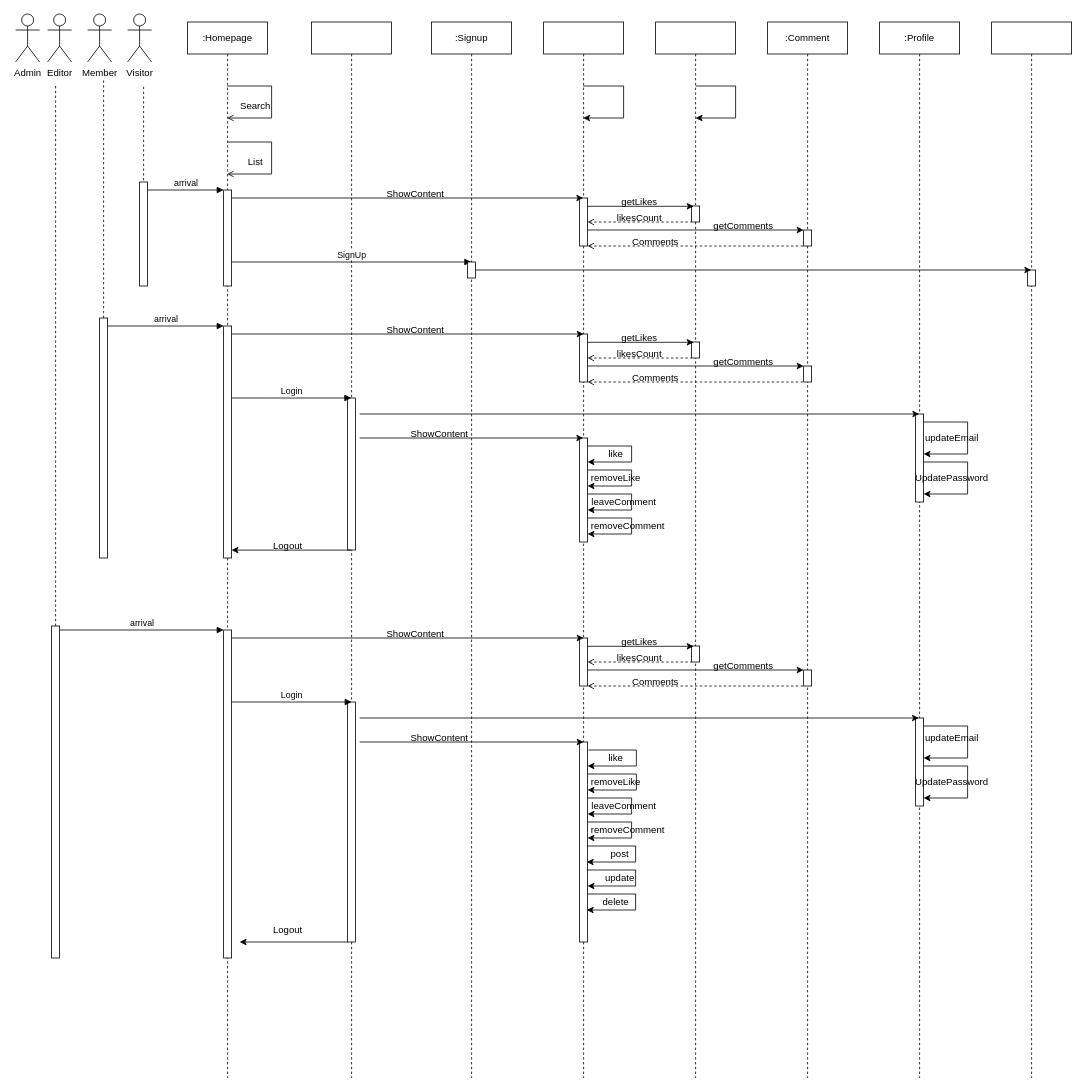
The diagram is 1086 pixels wide and 1092 high, and some of its shapes have lost their labels. The shapes that lost their labels are listed below. From the top down, each one's box as (x1, y1, x2, y2) in pixels, then its label:
(311, 21, 392, 1078): :Login
(543, 21, 624, 1078): :Content
(655, 21, 736, 1078): :Like
(991, 21, 1072, 1078): :User
